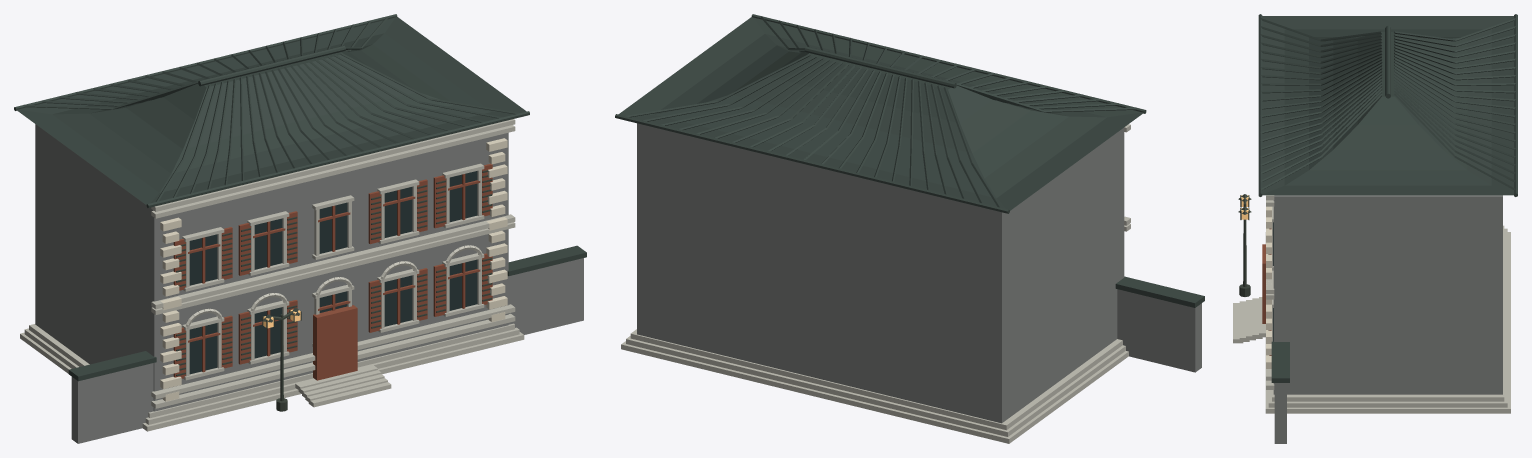
File: beishan-qiushui.glb
3 views of the same model, side by side, from view 1: azimuth 30°, elevation 25°; view 2: azimuth 150°, elevation 25°; view 3: azimuth 270°, elevation 25° (orthographic). The views are drawn at different scales.
Visible parts, largest first — view 1: Masonry_Brick, Dark_Tile, Limestone, Lacquered_Wood, Deep_Glazing, White_Plaster, Patinated_Iron; view 2: Masonry_Brick, Dark_Tile, Limestone; view 3: Dark_Tile, Masonry_Brick, Limestone, White_Plaster, Patinated_Iron, Lacquered_Wood.
Boxes of the visible parts, bbox=[...] form: Masonry_Brick: bbox=[35, 124, 583, 443]; Dark_Tile: bbox=[14, 14, 586, 381]; Limestone: bbox=[20, 119, 524, 431]; Lacquered_Wood: bbox=[173, 163, 492, 380]; Deep_Glazing: bbox=[189, 171, 477, 374]; White_Plaster: bbox=[160, 138, 507, 401]; Patinated_Iron: bbox=[176, 170, 492, 411]; Masonry_Brick: bbox=[637, 123, 1201, 423]; Dark_Tile: bbox=[615, 14, 1204, 307]; Limestone: bbox=[621, 124, 1130, 443]; Dark_Tile: bbox=[1258, 14, 1517, 382]; Masonry_Brick: bbox=[1273, 195, 1502, 443]; Limestone: bbox=[1233, 195, 1510, 413]; White_Plaster: bbox=[1266, 206, 1271, 368]; Patinated_Iron: bbox=[1238, 194, 1268, 330]; Lacquered_Wood: bbox=[1262, 228, 1271, 355].
Size of the model in its own units: 15.79 by 8.18 by 7.95.
